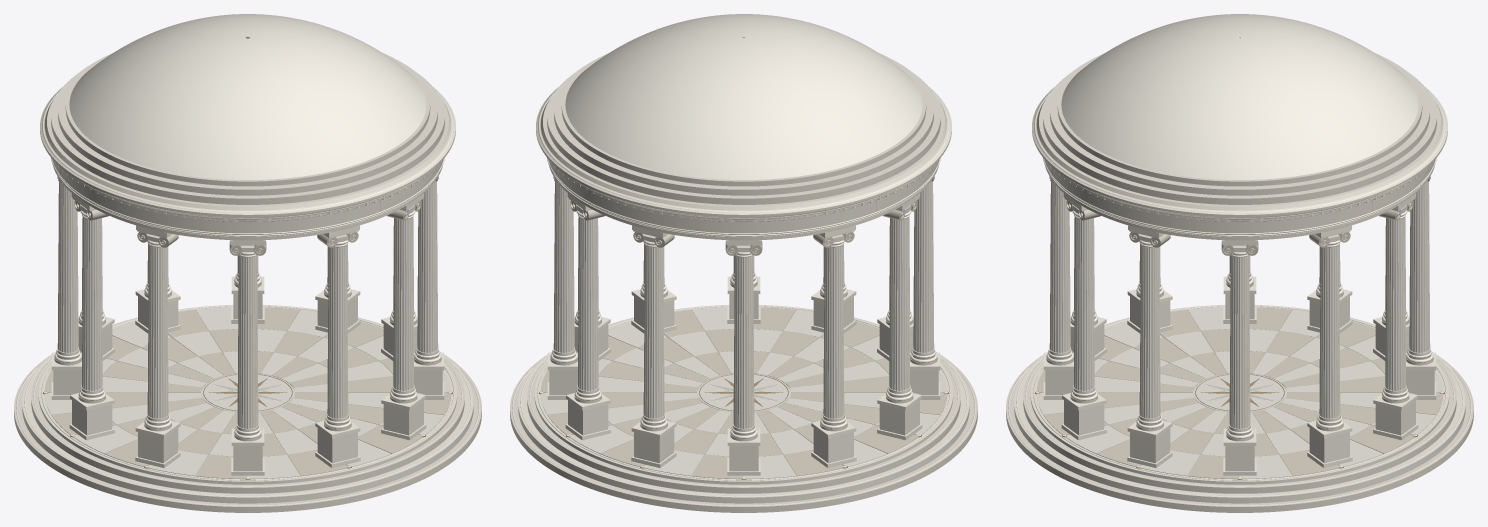
Rendered from pavilhao-rotunda.glb.
3 renders of one model, left to right at view 1: azimuth 30°, elevation 25°; view 2: azimuth 150°, elevation 25°; view 3: azimuth 270°, elevation 25°, orthographic.
Visible parts, largest first — view 1: rotunda-cupola-hollow-cupola, rotunda-stone-entablature-and-stepped-drum, rotunda-marble-middle-step, rotunda-stone-lower-step, rotunda-stone-upper-step, rotunda-marble-stylobate, rotunda-marble-column-8-fluted-shaft, rotunda-marble-column-7-fluted-shaft, rotunda-marble-column-9-fluted-shaft, rotunda-marble-column-6-fluted-shaft, rotunda-marble-column-10-fluted-shaft, rotunda-marble-column-5-fluted-shaft (+42 smaller); view 2: rotunda-cupola-hollow-cupola, rotunda-stone-entablature-and-stepped-drum, rotunda-marble-middle-step, rotunda-stone-lower-step, rotunda-stone-upper-step, rotunda-marble-stylobate, rotunda-marble-column-4-fluted-shaft, rotunda-marble-column-3-fluted-shaft, rotunda-marble-column-5-fluted-shaft, rotunda-marble-column-2-fluted-shaft, rotunda-marble-column-6-fluted-shaft, rotunda-marble-column-1-fluted-shaft (+42 smaller); view 3: rotunda-cupola-hollow-cupola, rotunda-stone-entablature-and-stepped-drum, rotunda-marble-middle-step, rotunda-stone-lower-step, rotunda-stone-upper-step, rotunda-marble-stylobate, rotunda-marble-column-0-fluted-shaft, rotunda-marble-column-1-fluted-shaft, rotunda-marble-column-11-fluted-shaft, rotunda-marble-column-2-fluted-shaft, rotunda-marble-column-10-fluted-shaft, rotunda-marble-column-3-fluted-shaft (+43 smaller).
Boxes of the visible parts, bbox=[...] form: rotunda-cupola-hollow-cupola: bbox=[69, 14, 426, 179]; rotunda-stone-entablature-and-stepped-drum: bbox=[40, 53, 455, 240]; rotunda-marble-middle-step: bbox=[22, 355, 473, 503]; rotunda-stone-lower-step: bbox=[14, 352, 481, 512]; rotunda-stone-upper-step: bbox=[31, 305, 464, 493]; rotunda-marble-stylobate: bbox=[38, 305, 457, 484]; rotunda-marble-column-8-fluted-shaft: bbox=[237, 255, 258, 428]; rotunda-marble-column-7-fluted-shaft: bbox=[147, 245, 168, 418]; rotunda-marble-column-9-fluted-shaft: bbox=[327, 245, 348, 418]; rotunda-marble-column-6-fluted-shaft: bbox=[82, 217, 102, 390]; rotunda-marble-column-10-fluted-shaft: bbox=[393, 217, 413, 390]; rotunda-marble-column-5-fluted-shaft: bbox=[57, 181, 78, 352]; rotunda-cupola-hollow-cupola: bbox=[565, 14, 922, 179]; rotunda-stone-entablature-and-stepped-drum: bbox=[536, 53, 951, 240]; rotunda-marble-middle-step: bbox=[518, 355, 969, 503]; rotunda-stone-lower-step: bbox=[510, 352, 977, 512]; rotunda-stone-upper-step: bbox=[527, 305, 960, 493]; rotunda-marble-stylobate: bbox=[534, 305, 953, 484]; rotunda-marble-column-4-fluted-shaft: bbox=[733, 255, 754, 428]; rotunda-marble-column-3-fluted-shaft: bbox=[643, 245, 664, 418]; rotunda-marble-column-5-fluted-shaft: bbox=[823, 245, 844, 418]; rotunda-marble-column-2-fluted-shaft: bbox=[578, 217, 598, 390]; rotunda-marble-column-6-fluted-shaft: bbox=[889, 217, 909, 390]; rotunda-marble-column-1-fluted-shaft: bbox=[553, 181, 574, 352]; rotunda-cupola-hollow-cupola: bbox=[1061, 14, 1418, 179]; rotunda-stone-entablature-and-stepped-drum: bbox=[1032, 53, 1447, 240]; rotunda-marble-middle-step: bbox=[1014, 355, 1465, 503]; rotunda-stone-lower-step: bbox=[1006, 352, 1473, 512]; rotunda-stone-upper-step: bbox=[1023, 305, 1456, 493]; rotunda-marble-stylobate: bbox=[1030, 305, 1449, 484]; rotunda-marble-column-0-fluted-shaft: bbox=[1229, 255, 1250, 428]; rotunda-marble-column-1-fluted-shaft: bbox=[1319, 245, 1340, 418]; rotunda-marble-column-11-fluted-shaft: bbox=[1139, 245, 1160, 418]; rotunda-marble-column-2-fluted-shaft: bbox=[1385, 217, 1405, 390]; rotunda-marble-column-10-fluted-shaft: bbox=[1074, 217, 1094, 390]; rotunda-marble-column-3-fluted-shaft: bbox=[1409, 181, 1430, 352].
Size of the model in its own units: 11.4 by 10.12 by 11.4.
